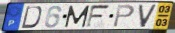6: (44, 5, 62, 29)
D: (20, 5, 43, 29)
F: (85, 4, 111, 29)
M: (64, 5, 92, 29)
P: (112, 4, 136, 29)
V: (138, 4, 159, 29)
